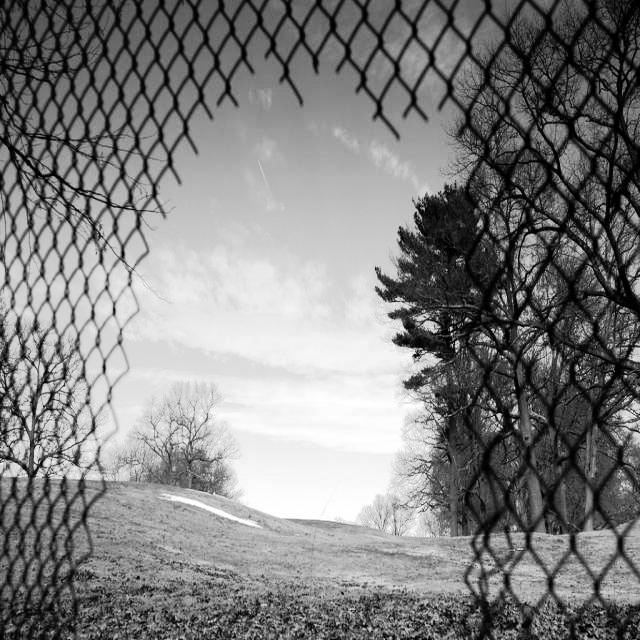anomaly-fence: (57, 65, 511, 640)
